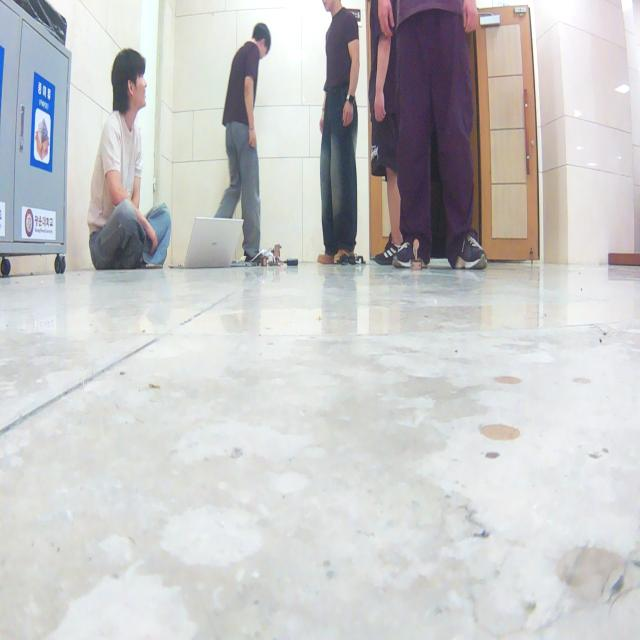target: (410, 239, 422, 270)
